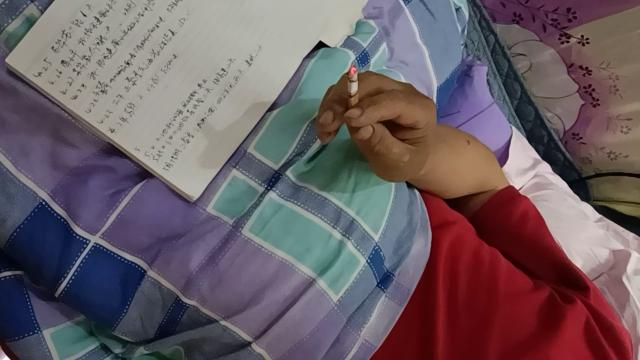Cigarette: (348, 64, 360, 118)
